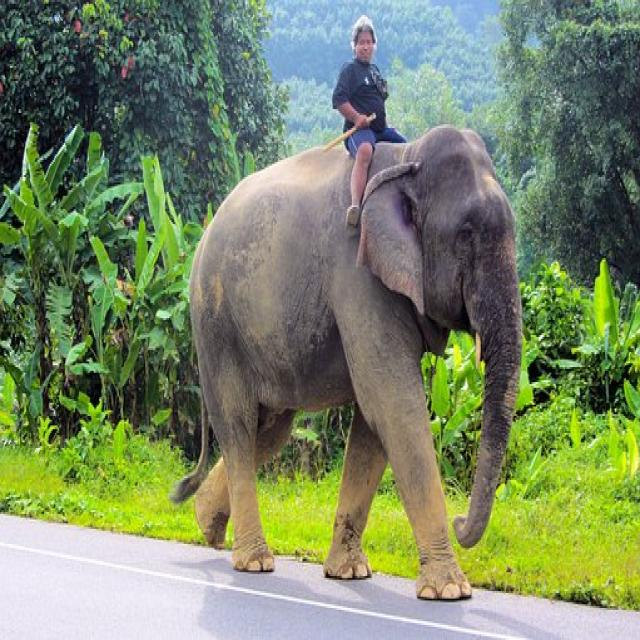Elephant: (163, 114, 567, 635)
